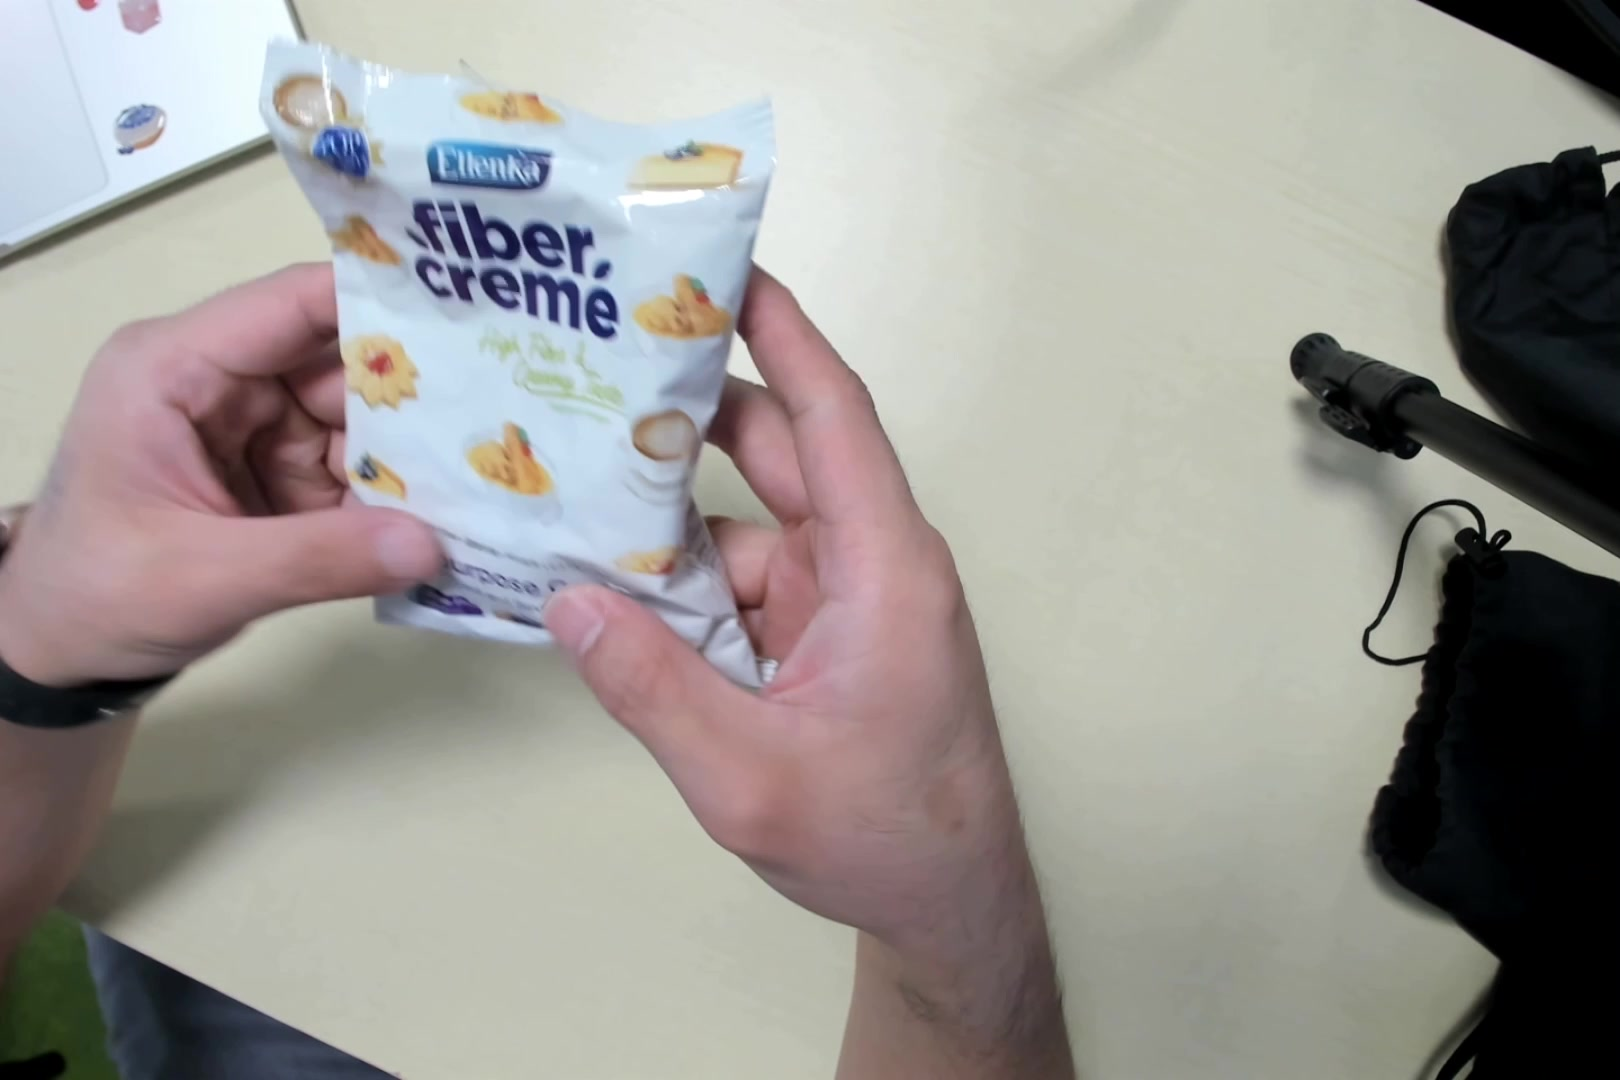OtherBakingNeeds_100-199g_Halal_NonHealthy: (262, 45, 783, 695)
